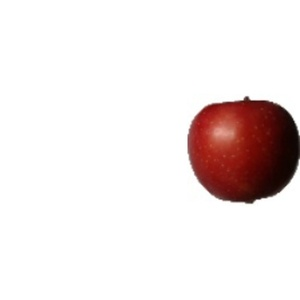maçã braeburn: (188, 94, 297, 202)
